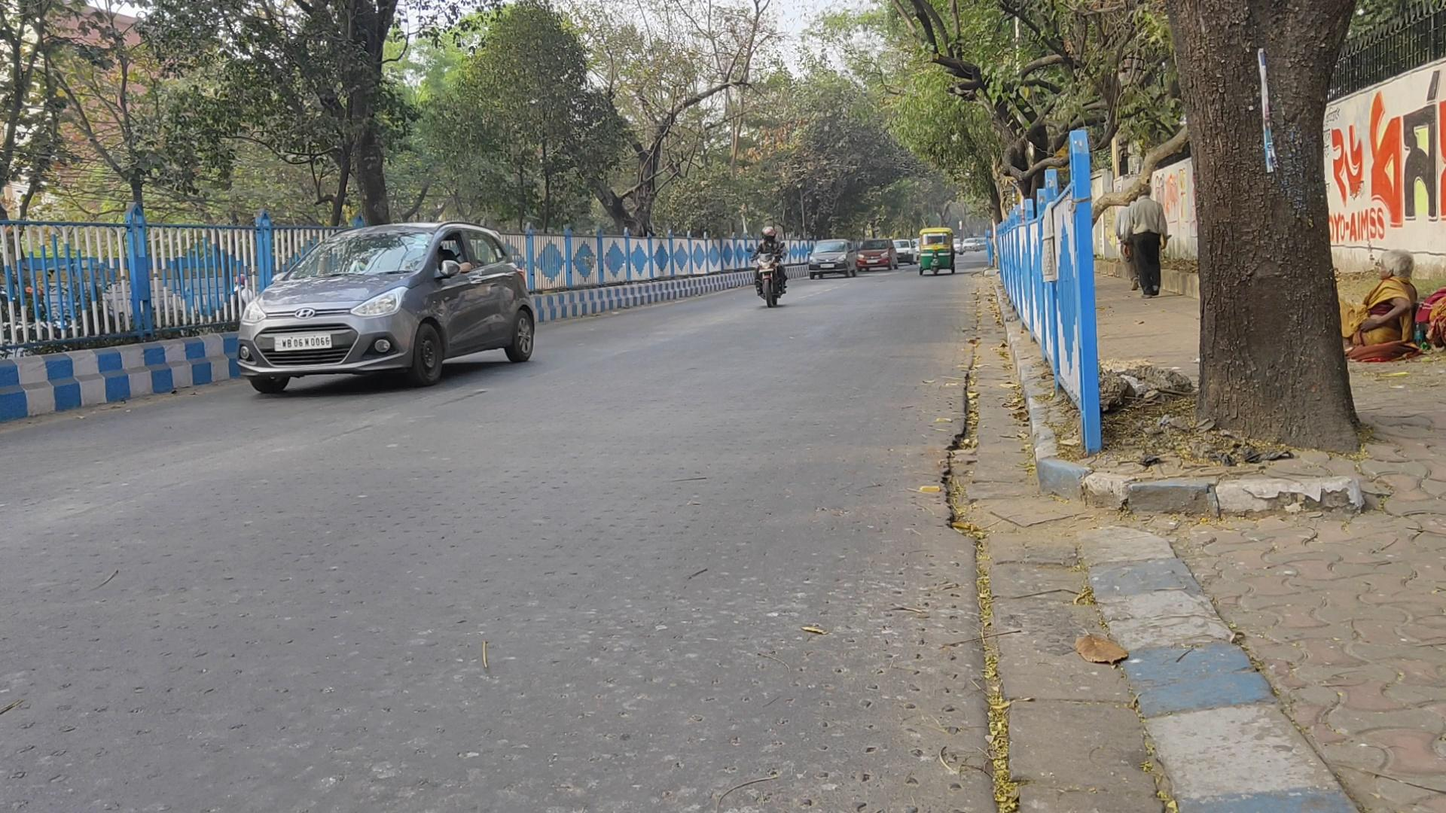Auto: (915, 226, 958, 274)
bike: (746, 225, 790, 307)
car: (237, 221, 535, 395), (808, 237, 857, 282), (855, 237, 898, 273), (892, 237, 914, 267), (962, 237, 979, 254)
